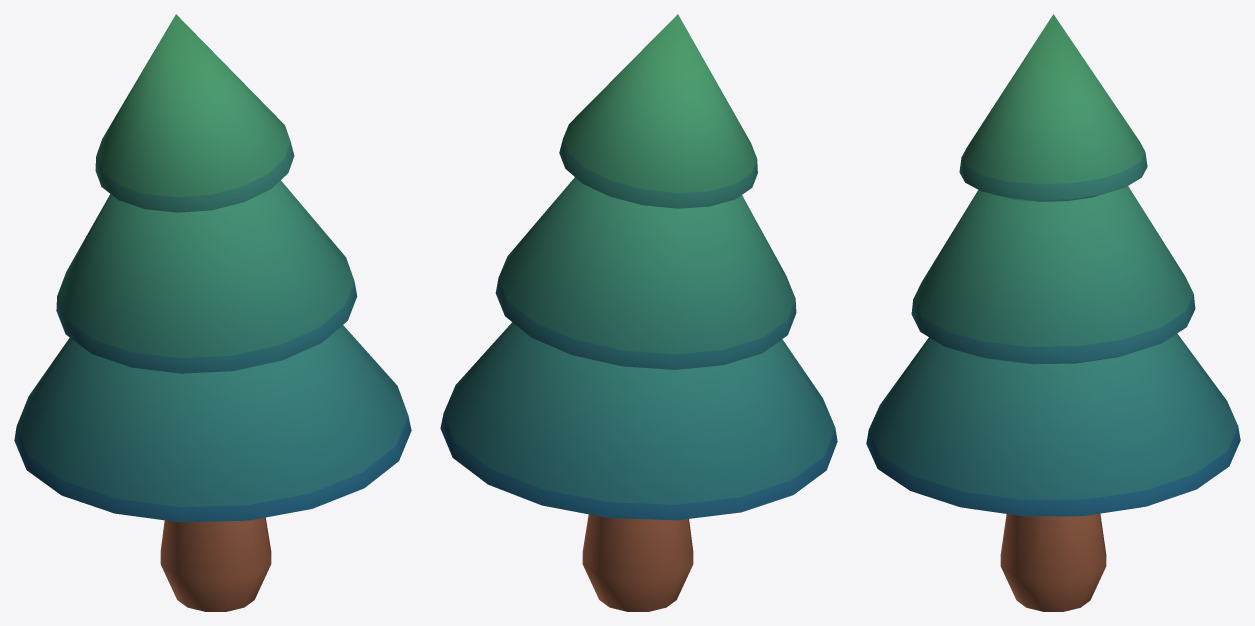
The model's file is Tree Large.glb.
3 views of the same model, side by side, from view 1: azimuth 30°, elevation 25°; view 2: azimuth 150°, elevation 25°; view 3: azimuth 270°, elevation 25° (orthographic). The views are drawn at different scales.
Visible parts, largest first — view 1: tree_large; view 2: tree_large; view 3: tree_large.
Part boxes in pixels (left/top/right/bottom): tree_large: left=14, top=14, right=411, bottom=611; tree_large: left=440, top=14, right=837, bottom=611; tree_large: left=866, top=14, right=1240, bottom=611.
Bounding box in the file's own units: 2.84 × 4.71 × 2.84.
Materials: 1 (1 with a texture image).
